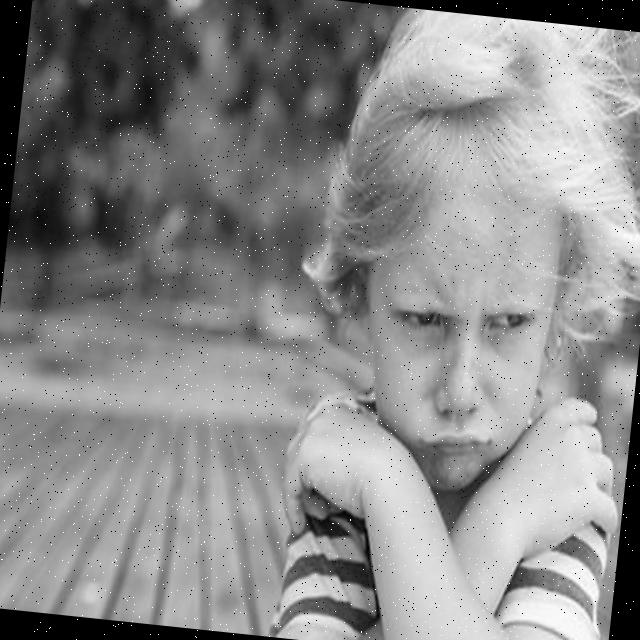Angry: (350, 182, 565, 499)
